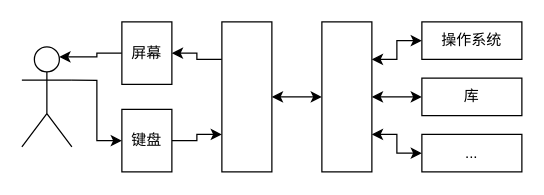
Image size: 544x195. Some labels were removed from this diagram. Each missing label, with the centre of its shape:
"shell" belongs at pixel 346 96.
"User" belongs at pixel 46 96.
"终端" belongs at pixel 246 96.
